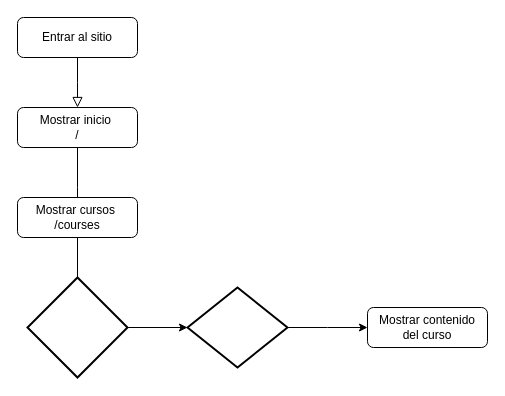
The diagram is 505 pixels wide and 396 high, and some of its shapes have lost their labels. Each missing label, with the box of its shape:
Entra a un curso?: (26, 276, 128, 378)
está logeado?: (186, 286, 288, 368)
